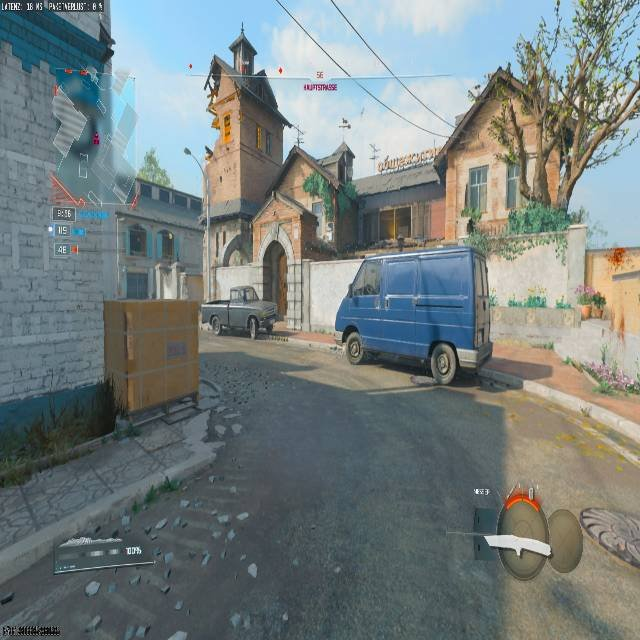player: (339, 323, 364, 366)
